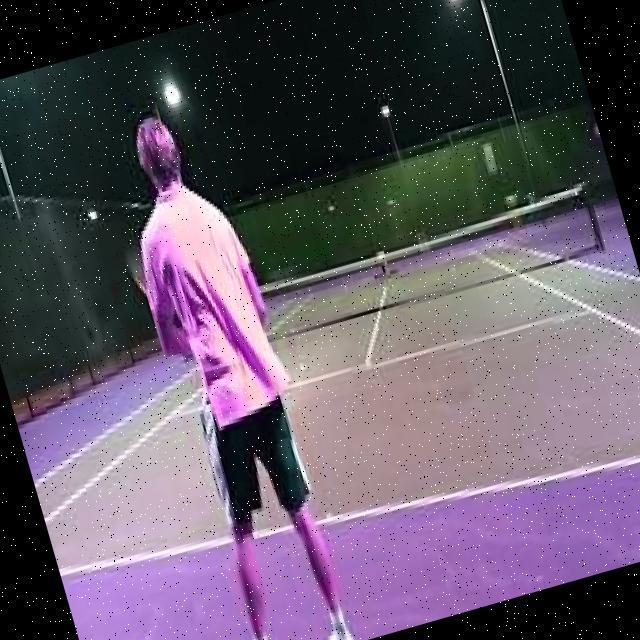court: (16, 245, 640, 640)
net: (247, 183, 612, 349)
player: (83, 94, 372, 640)
